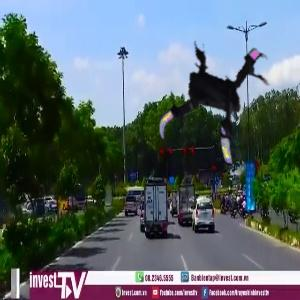drone: (145, 23, 292, 170)
